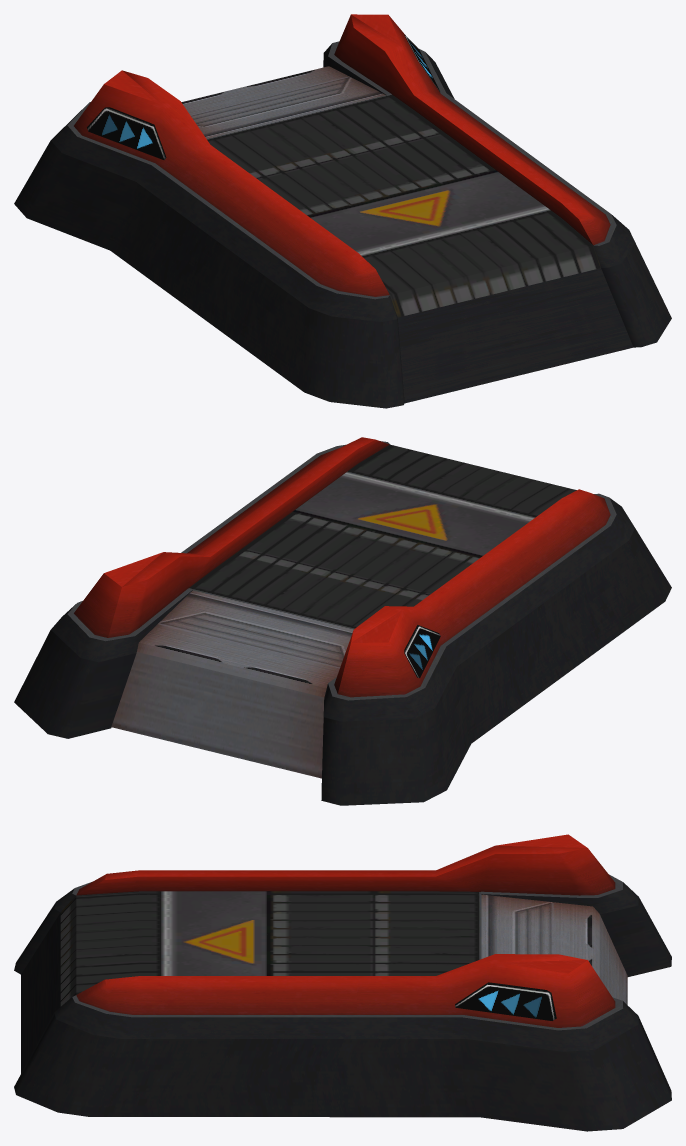
File: DashPanel.fbx
3 renders of one model, top to bottom at view 1: azimuth 30°, elevation 25°; view 2: azimuth 150°, elevation 25°; view 3: azimuth 270°, elevation 25°, orthographic.
Visible parts, largest first — view 1: Main, Road, Arrows; view 2: Main, Road, Arrows; view 3: Main, Road, Arrows.
Part boxes in pixels (x1,y1,x2,y2): Main: [14, 14, 671, 408]; Road: [207, 94, 600, 317]; Arrows: [88, 39, 439, 159]; Main: [14, 437, 671, 805]; Road: [189, 444, 576, 628]; Arrows: [407, 629, 440, 677]; Main: [14, 834, 671, 1131]; Road: [60, 891, 479, 1006]; Arrows: [456, 988, 552, 1020].
Bounding box in the file's own units: 124 × 168 × 35.61.
3 materials, 3 textured.
